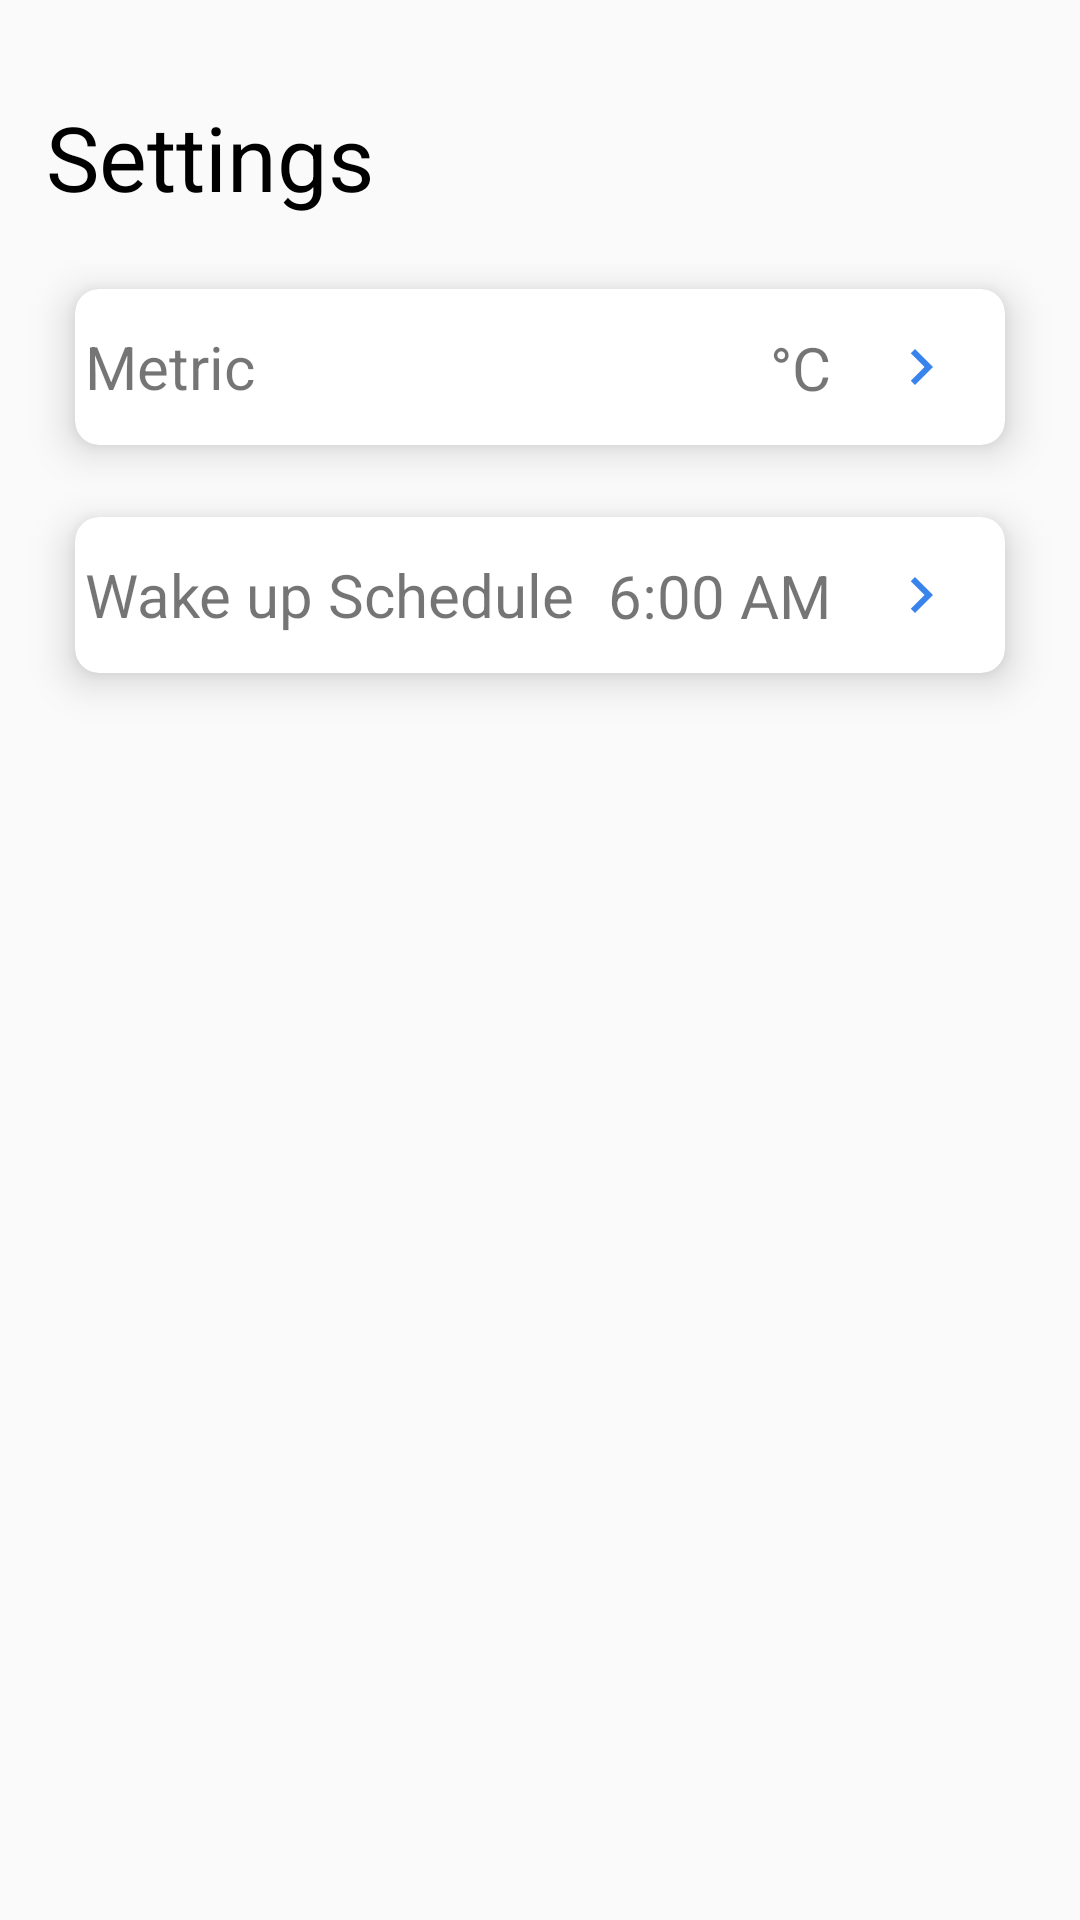

Point at icon controls on the screen. Image size 1080x1920, points as point (x, y).
chevron right: point (922, 367), point (922, 595)
